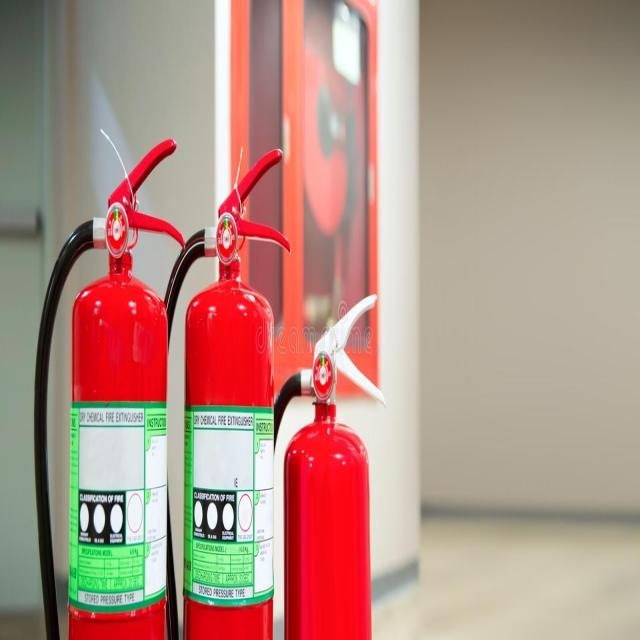fire_extinguisher: (29, 134, 188, 639), (145, 141, 294, 639), (256, 286, 390, 639)
